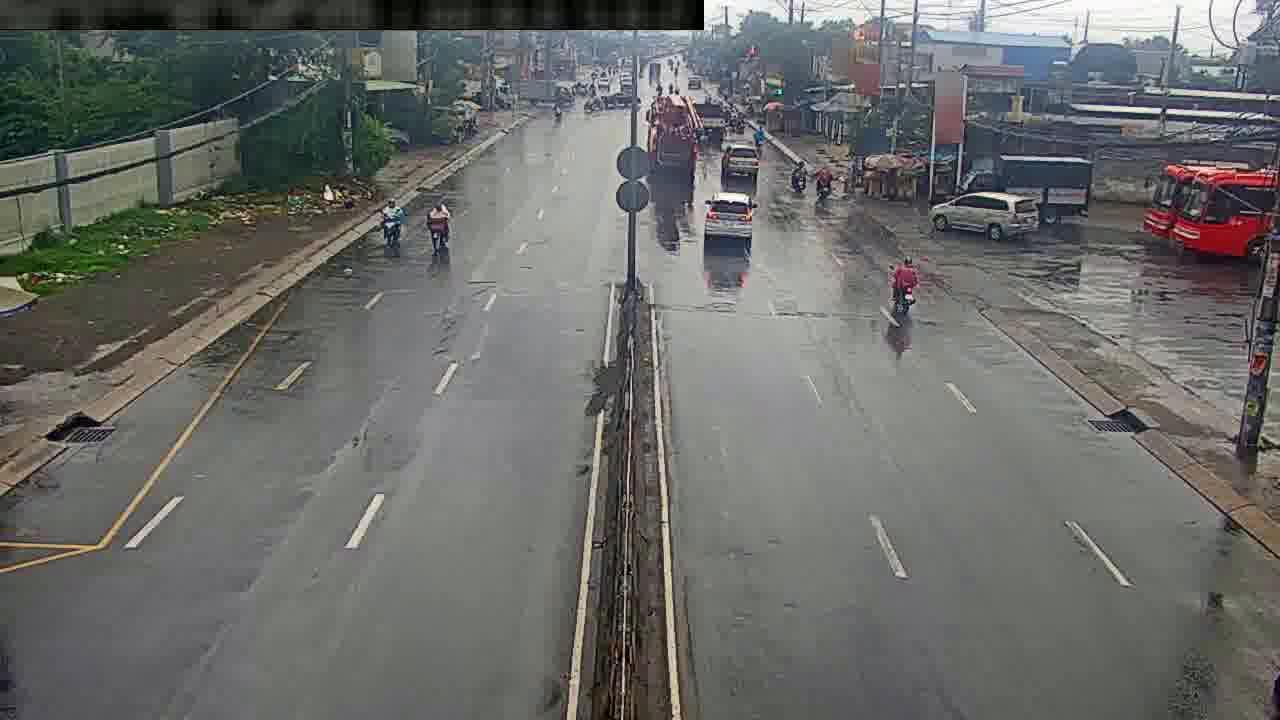container: (703, 195, 756, 241)
motorbike: (891, 252, 917, 316), (429, 197, 455, 253), (380, 197, 404, 251), (816, 163, 832, 203), (793, 160, 806, 188)
